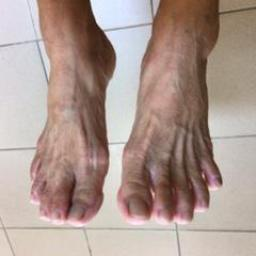Dorsal View -Both Feet-: (1, 6, 248, 232)
